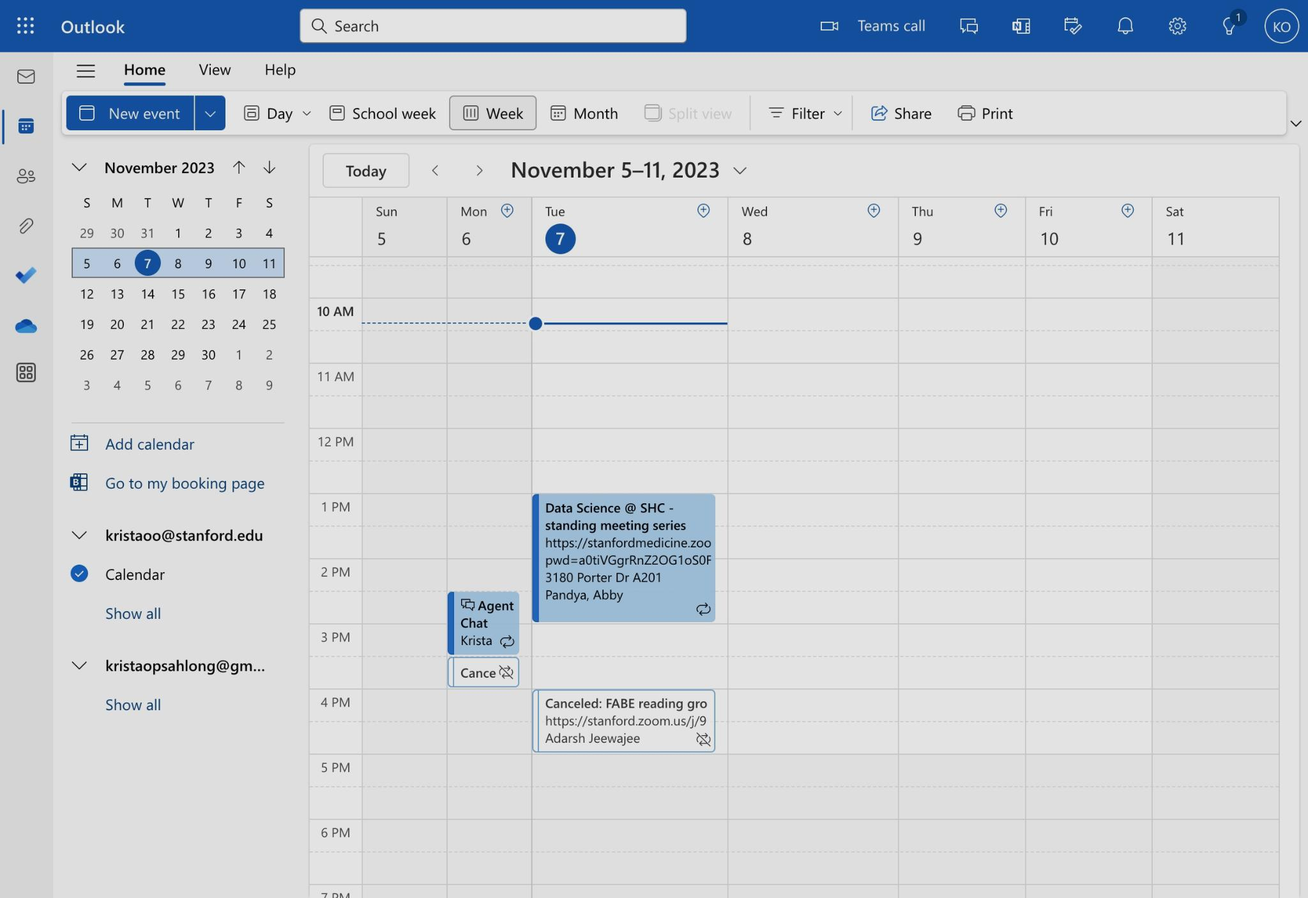webelement: (309, 196, 1298, 897), (53, 422, 300, 897), (0, 0, 1307, 51), (71, 186, 283, 399), (65, 90, 744, 133), (532, 494, 715, 621), (53, 553, 300, 631), (3, 51, 47, 351), (532, 689, 715, 752), (506, 153, 754, 186), (67, 463, 280, 500), (70, 515, 279, 552), (70, 645, 279, 682), (331, 13, 673, 35), (70, 424, 279, 460), (70, 554, 279, 590), (70, 594, 279, 630), (70, 685, 279, 721), (51, 137, 121, 238), (106, 51, 311, 84), (815, 0, 929, 51), (446, 591, 518, 654), (325, 95, 437, 128), (104, 524, 279, 544), (104, 654, 279, 674), (75, 95, 181, 128), (60, 0, 124, 51), (309, 197, 361, 256), (641, 95, 733, 128), (942, 0, 994, 51), (994, 0, 1046, 51), (1046, 0, 1098, 51), (1099, 0, 1151, 51), (1203, 0, 1255, 51), (765, 95, 845, 128), (0, 0, 51, 51), (1151, 0, 1202, 51), (1255, 0, 1306, 51), (547, 95, 619, 128), (103, 156, 214, 177), (446, 656, 518, 686), (460, 95, 525, 128), (867, 95, 932, 128), (955, 95, 1015, 128), (3, 54, 47, 98), (3, 104, 47, 148), (3, 204, 47, 248), (3, 254, 47, 298), (3, 155, 47, 198), (3, 304, 47, 347), (3, 351, 47, 394), (69, 602, 159, 623), (69, 693, 159, 713), (340, 153, 390, 186), (240, 97, 294, 127), (118, 52, 169, 83), (351, 103, 434, 120), (194, 52, 234, 83), (260, 52, 300, 83), (68, 53, 102, 89), (108, 103, 179, 120), (667, 103, 731, 120), (856, 16, 924, 31), (194, 95, 224, 129), (1011, 0, 1029, 51), (223, 151, 253, 181), (253, 151, 283, 181), (71, 186, 101, 216), (101, 186, 131, 216), (132, 186, 162, 216), (162, 186, 192, 216), (193, 186, 223, 216), (223, 186, 253, 216), (253, 186, 283, 216), (1064, 0, 1081, 51), (1168, 0, 1185, 51), (1220, 0, 1237, 51), (573, 103, 617, 120), (422, 152, 447, 181), (465, 152, 490, 181), (66, 151, 90, 181), (103, 218, 129, 244), (134, 218, 160, 244), (164, 218, 190, 244), (225, 218, 251, 244), (255, 218, 281, 244), (103, 249, 129, 275), (134, 249, 160, 275), (164, 249, 190, 275), (225, 249, 251, 275), (255, 249, 281, 275), (103, 340, 129, 366), (134, 340, 160, 366), (164, 340, 190, 366), (225, 340, 251, 366), (255, 340, 281, 366), (103, 370, 129, 396), (134, 370, 160, 396), (164, 370, 190, 396), (225, 370, 251, 396), (255, 370, 281, 396), (73, 218, 98, 244), (195, 218, 220, 244), (73, 249, 98, 275), (195, 249, 220, 275), (103, 280, 129, 305), (134, 280, 160, 305), (164, 280, 190, 305), (225, 280, 251, 305), (255, 280, 281, 305), (103, 310, 129, 335), (134, 310, 160, 335), (164, 310, 190, 335), (225, 310, 251, 335), (255, 310, 281, 335), (73, 340, 98, 366), (195, 340, 220, 366), (73, 370, 98, 396), (195, 370, 220, 396), (123, 61, 165, 76), (893, 103, 930, 120), (73, 280, 98, 305), (195, 280, 220, 305), (73, 310, 98, 335), (195, 310, 220, 335), (345, 162, 386, 177), (486, 103, 522, 120), (616, 663, 652, 680), (297, 95, 314, 129), (791, 103, 824, 120), (981, 103, 1013, 120), (199, 100, 220, 124), (14, 65, 36, 87), (14, 115, 36, 137), (14, 165, 36, 187), (14, 215, 36, 237), (14, 361, 36, 383), (198, 61, 230, 76), (264, 61, 295, 76), (692, 199, 714, 220), (266, 103, 292, 120), (496, 199, 517, 220), (862, 199, 883, 220), (989, 199, 1010, 220), (1116, 199, 1137, 220), (1286, 112, 1305, 133), (1228, 8, 1246, 25), (497, 633, 515, 650), (694, 730, 711, 748), (297, 103, 314, 120), (496, 663, 513, 680), (694, 600, 711, 617), (1307, 134, 1308, 356), (127, 112, 128, 113), (380, 112, 381, 113), (491, 112, 492, 113), (687, 112, 688, 113), (805, 112, 806, 113), (51, 137, 52, 138), (267, 112, 267, 113), (583, 112, 583, 113), (900, 112, 900, 113), (985, 112, 985, 113)
